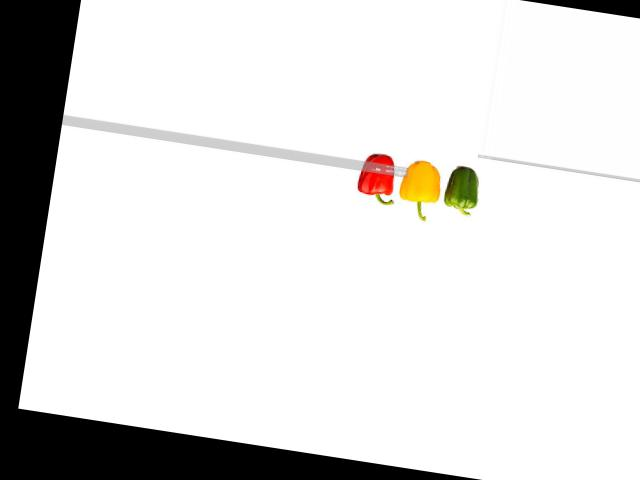bell_pepper: (442, 161, 487, 224)
